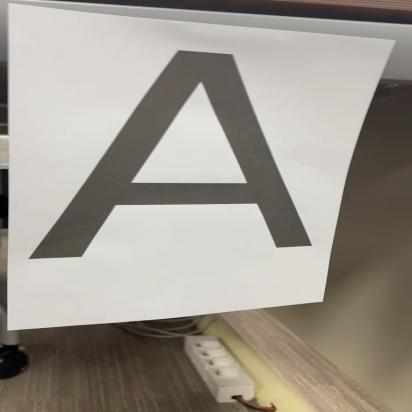seat: (34, 41, 332, 274)
